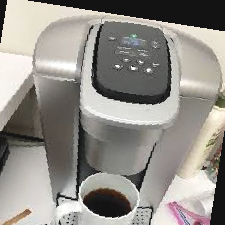10oz: (127, 64, 138, 73)
12oz: (142, 66, 154, 74)
4oz: (121, 56, 130, 62)
6oz: (136, 58, 146, 64)
8oz: (111, 62, 123, 71)
